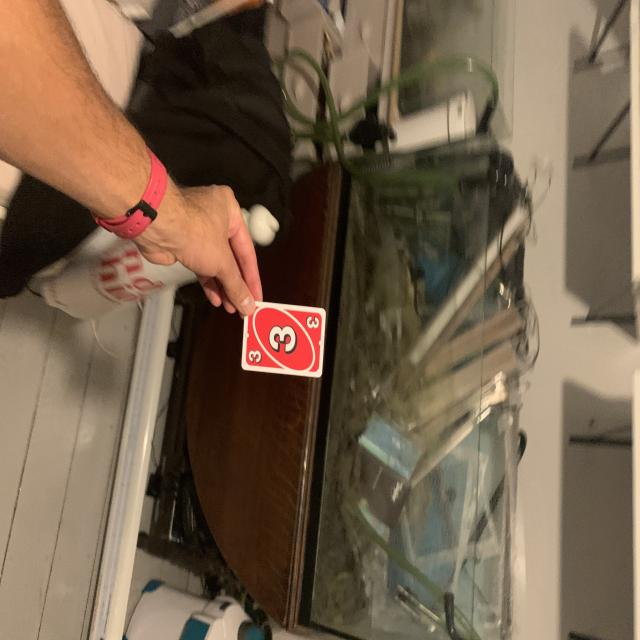lred-3: (245, 348, 266, 365)
